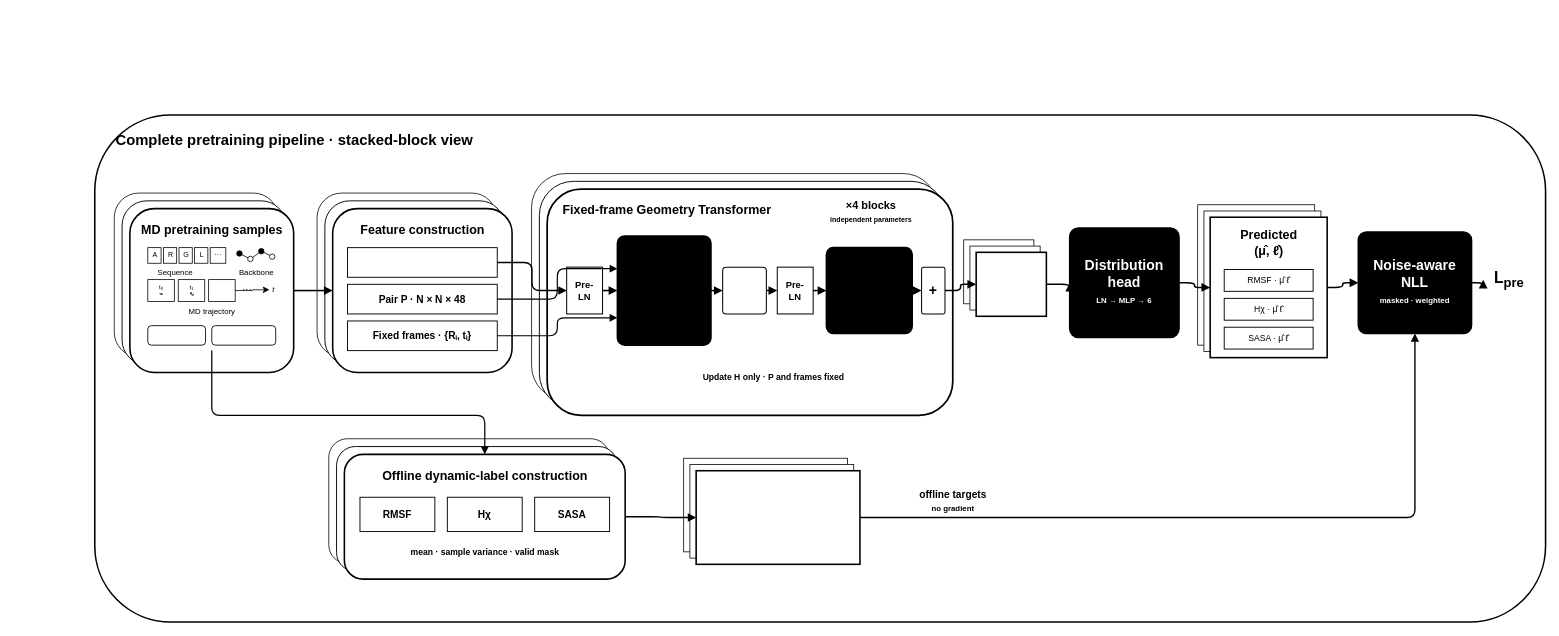
Some shapes in this 1559 by 636 pixel diagram are drawn without their labels. Each missing label, with the box of its shape:
8-head IPA Scalar · Pair · Point: (616, 235, 711, 346)
ATLAS ×3: (147, 325, 206, 345)
DynaRepo: (211, 325, 276, 345)
FFN 128 → 512 → 128 SiLU: (825, 246, 913, 334)
Final LN H⁽⁴⁾ N × 128: (975, 251, 1047, 317)
Residual +: (722, 266, 767, 314)
Single H⁽⁰⁾ · N × 128: (347, 247, 497, 277)
Supervision tensors Y · S² · M label N × 3: (695, 470, 860, 565)
t₂ ⌁: (208, 279, 235, 301)
